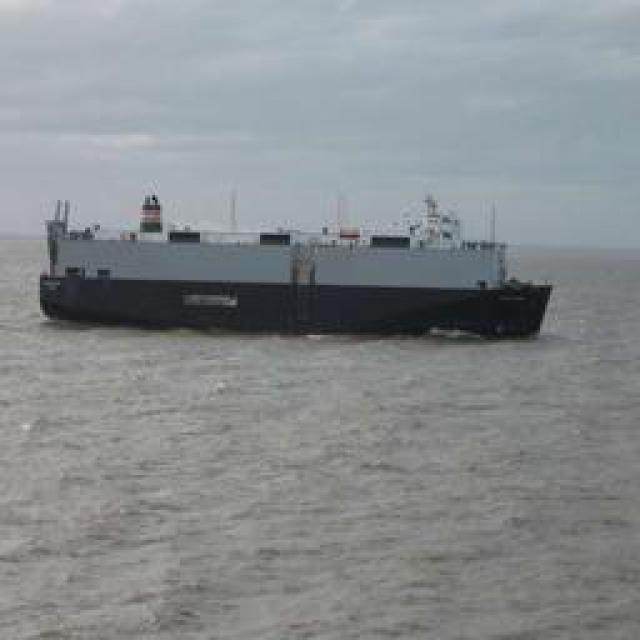Ship: (41, 184, 549, 344)
